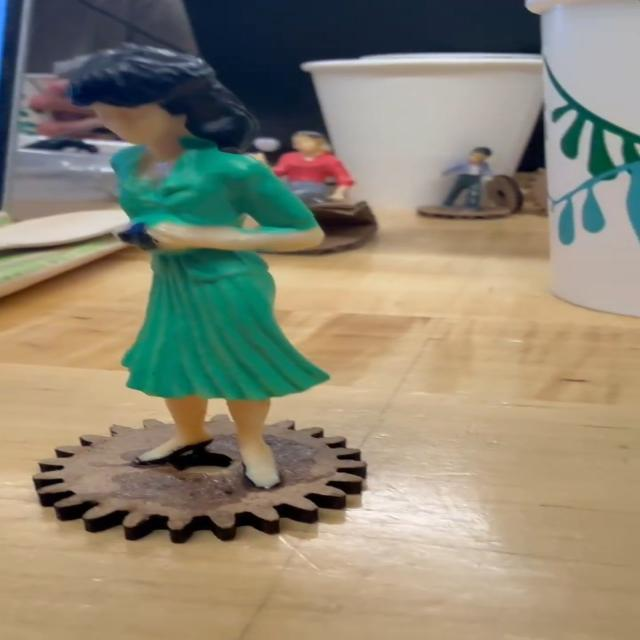Authorized: (20, 38, 389, 471)
